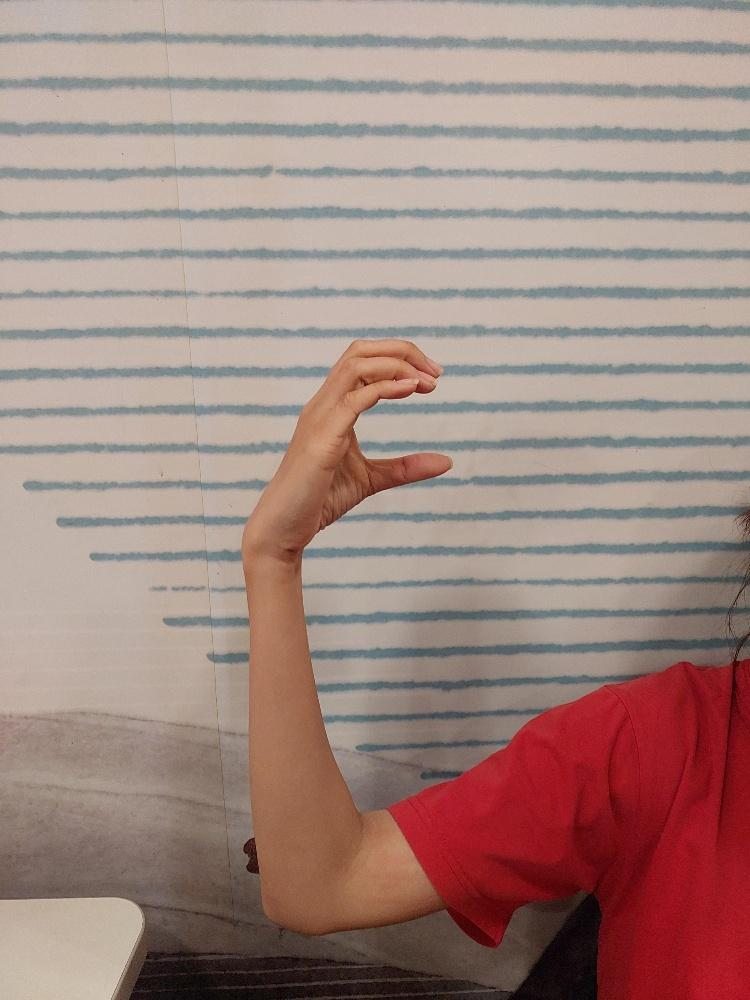c: (269, 335, 455, 558)
